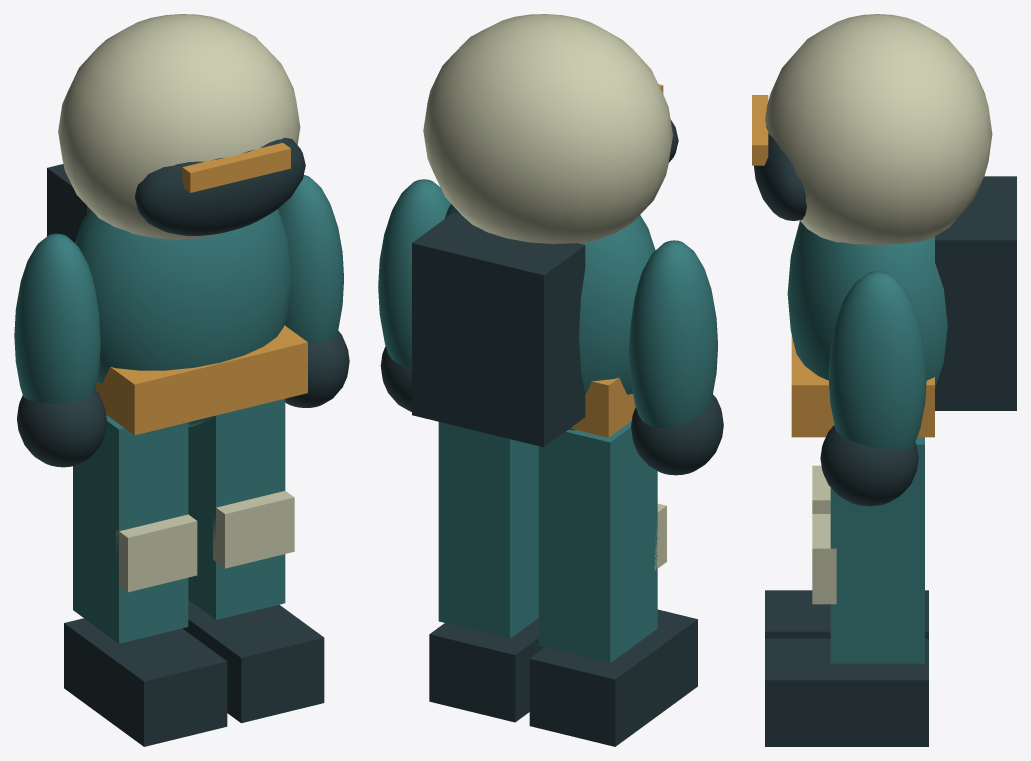
The model's file is engineer.glb.
3 views of the same model, side by side, from view 1: azimuth 30°, elevation 25°; view 2: azimuth 150°, elevation 25°; view 3: azimuth 270°, elevation 25° (orthographic). The views are drawn at different scales.
Parts seen in each view (by area): view 1: Body, Limb0, Limb2, Limb1, Limb3; view 2: Body, Limb0, Limb2, Limb1, Limb3; view 3: Body, Limb2, Limb3, Limb0.
Part boxes in pixels (<box>): Body: <box>47,14,307,435</box>; Limb0: <box>64,415,227,746</box>; Limb2: <box>182,399,324,723</box>; Limb1: <box>14,233,106,467</box>; Limb3: <box>278,175,349,407</box>; Body: <box>412,14,678,447</box>; Limb0: <box>529,421,697,746</box>; Limb2: <box>429,422,544,722</box>; Limb1: <box>629,240,723,475</box>; Limb3: <box>378,179,451,411</box>; Body: <box>752,14,1016,437</box>; Limb2: <box>765,437,928,746</box>; Limb3: <box>820,271,926,506</box>; Limb0: <box>765,465,928,638</box>.
Size of the model in its own units: 0.828 by 1.64 by 0.5823.
